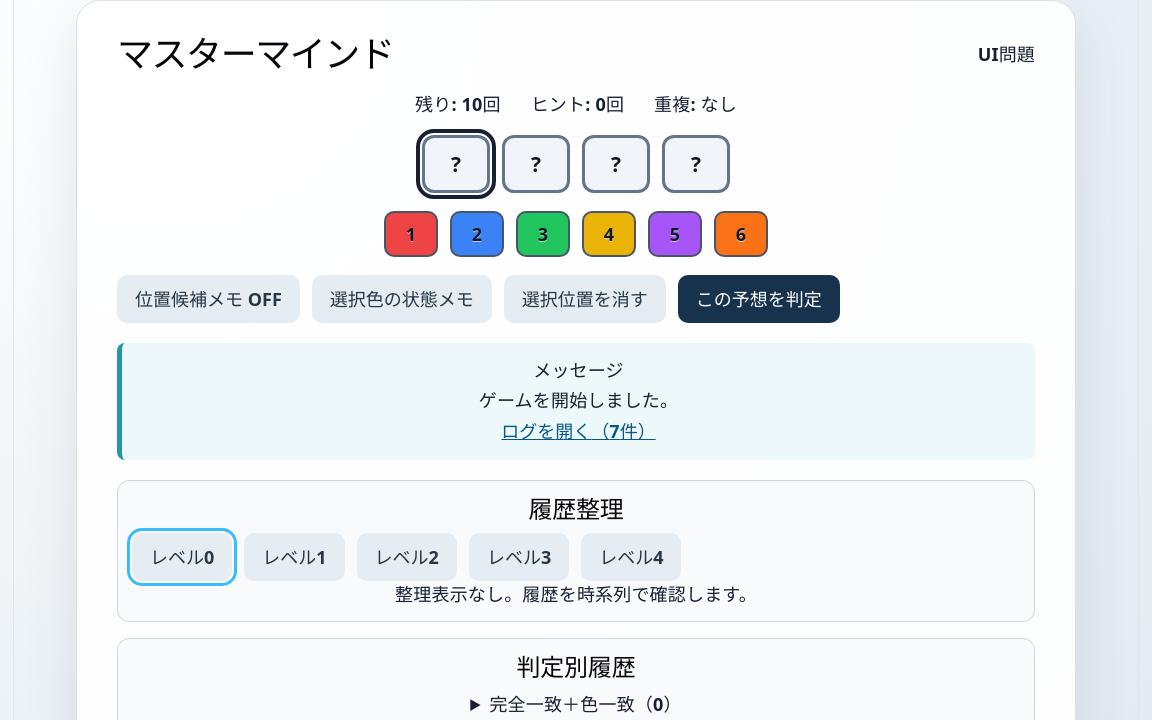
Test case: records position notes without changing the current guess
The image size is (1152, 720).
(page scrolled)
Expected: the button named "入力位置 1" is shown, [422,135,490,193]
Click the button "位置候補メモ OFF" at (208, 299), box [117,275,300,323]
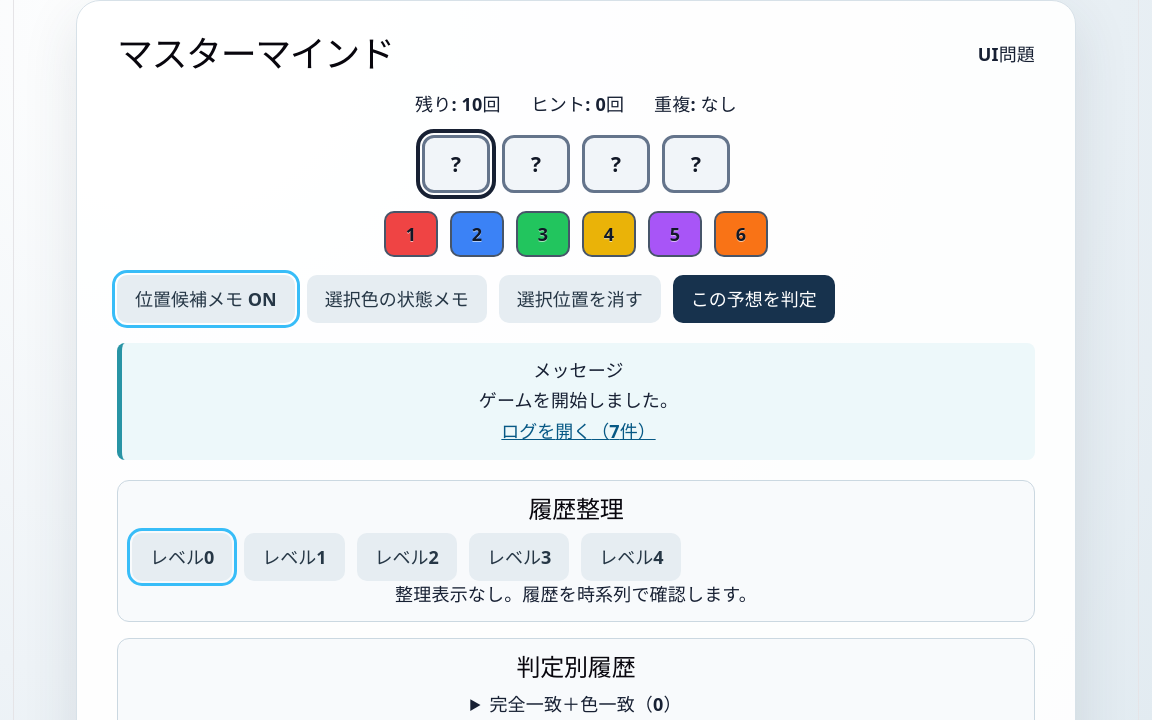
Click the button named "数字 2" at (477, 234), box [450,211,504,257]
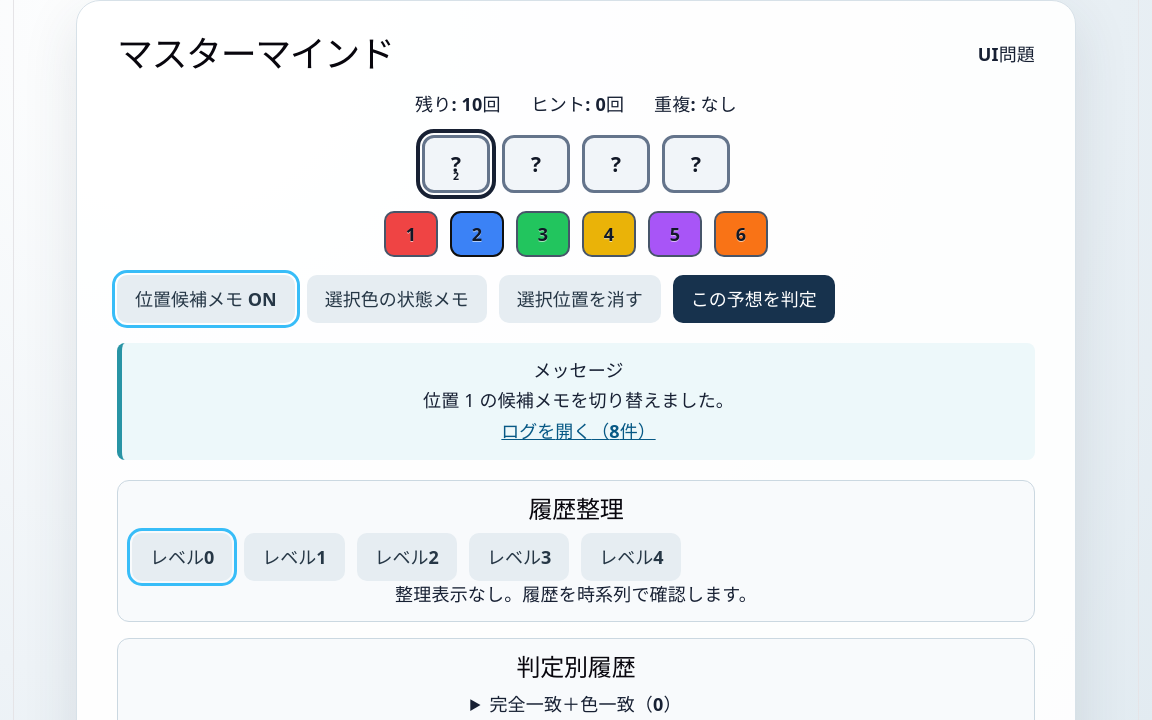
Expected: the button named "入力位置 1" shows "?", [422,135,490,193]
Expected: the button named "入力位置 1" shows "2", [422,135,490,193]
